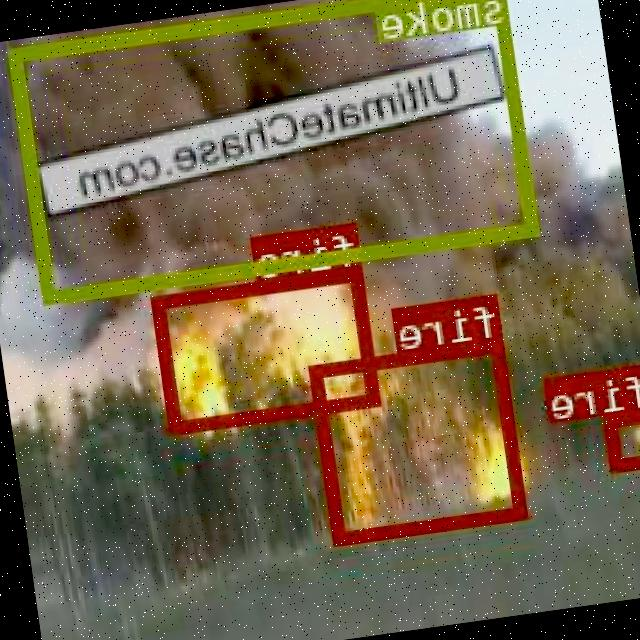fire: (312, 336, 531, 542), (153, 264, 384, 432), (605, 405, 640, 468)
smoke: (12, 0, 541, 302)
